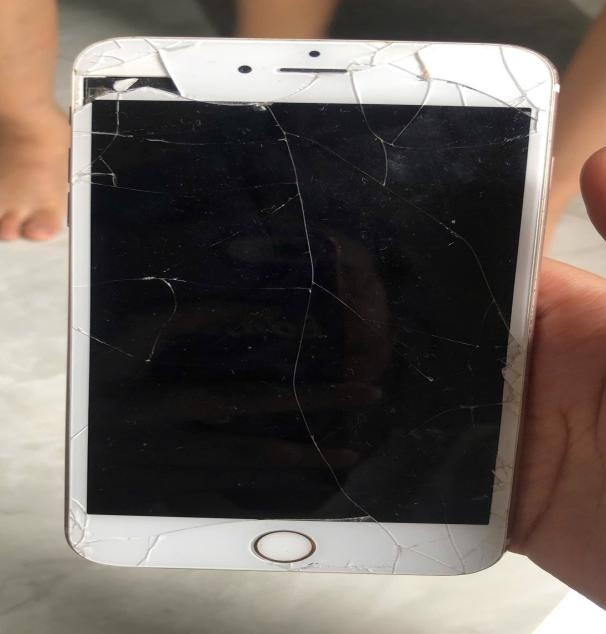physical_damage: (78, 36, 200, 102), (351, 49, 434, 72), (469, 526, 510, 566), (77, 128, 174, 144), (74, 156, 121, 184), (62, 496, 87, 547), (307, 559, 389, 574), (492, 121, 541, 145), (164, 518, 260, 530), (350, 38, 430, 52), (134, 273, 192, 292), (308, 433, 333, 477), (438, 335, 521, 348), (502, 349, 520, 408), (491, 452, 514, 493), (448, 522, 466, 574), (208, 98, 279, 111), (427, 215, 462, 238), (386, 544, 412, 573), (271, 112, 294, 144), (299, 262, 322, 294), (344, 73, 365, 103), (338, 487, 366, 509), (135, 344, 164, 365), (480, 89, 513, 107), (291, 380, 305, 422), (72, 325, 102, 344), (288, 180, 307, 209), (112, 185, 176, 193), (495, 44, 512, 74), (364, 130, 393, 147), (372, 174, 397, 193), (516, 78, 552, 91), (107, 341, 133, 359), (291, 338, 304, 374), (160, 299, 180, 322), (518, 93, 545, 110), (110, 103, 126, 131), (285, 147, 300, 176), (283, 85, 315, 98), (418, 76, 452, 88), (89, 535, 156, 541), (70, 422, 92, 440), (140, 545, 157, 565), (269, 562, 302, 572), (302, 238, 316, 261), (300, 210, 312, 235), (415, 90, 434, 105), (416, 366, 432, 383), (490, 507, 508, 522), (334, 514, 371, 521), (303, 72, 323, 83), (347, 304, 362, 316), (155, 327, 171, 338), (366, 318, 385, 327), (456, 91, 468, 105), (458, 82, 476, 91), (335, 293, 347, 304), (462, 142, 481, 148), (73, 548, 87, 556), (404, 144, 421, 150), (276, 204, 286, 214)
